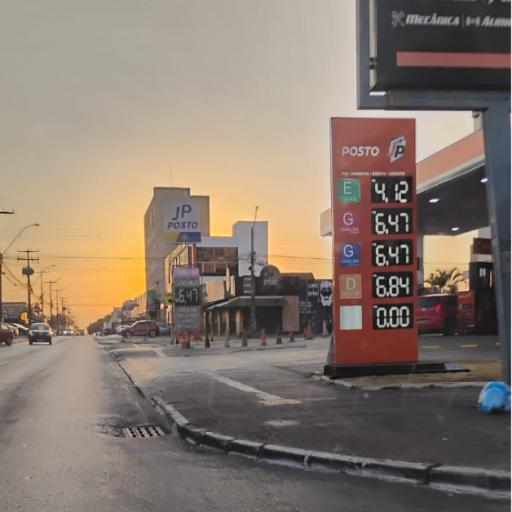ETANOL: (337, 178, 364, 205)
GASOLINA AD: (342, 243, 360, 269)
GASOLINA C: (340, 209, 363, 240)
S10: (340, 275, 362, 298)
placa: (332, 119, 416, 353)
preco: (374, 209, 414, 235), (372, 178, 412, 203), (375, 274, 415, 297), (375, 242, 412, 266)
